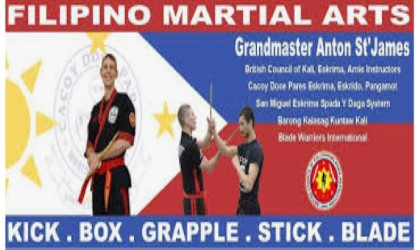baston_e: (92, 130, 117, 164), (215, 127, 237, 155), (208, 88, 213, 120)
baston_v: (83, 171, 91, 183), (207, 78, 214, 87)
